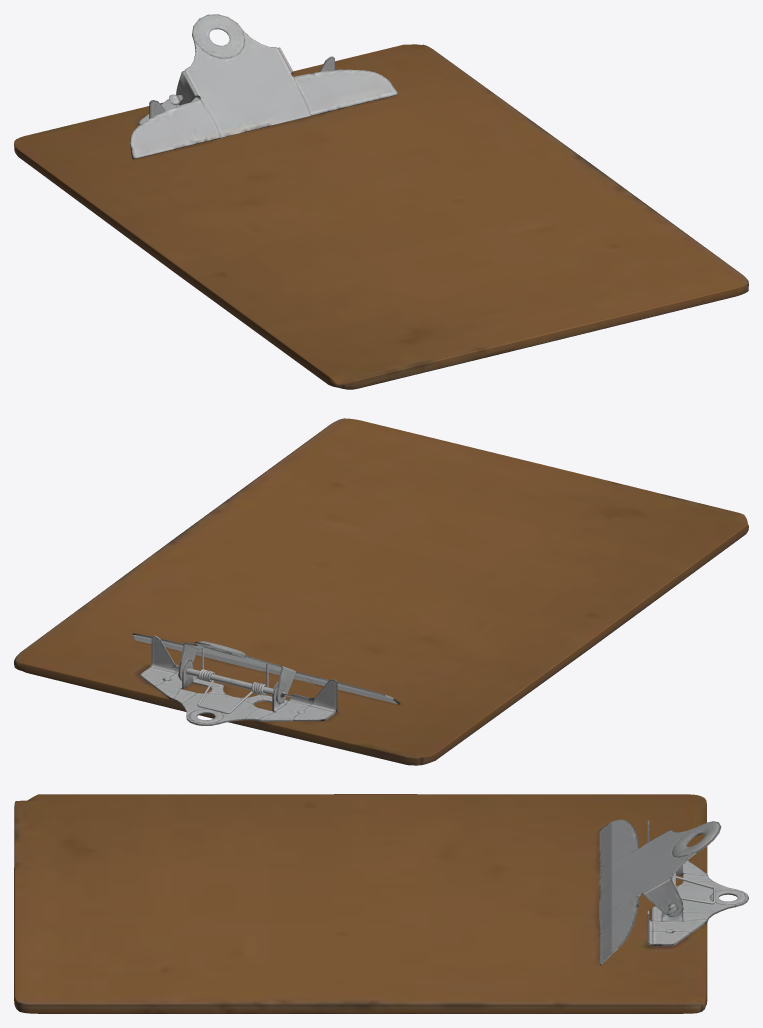
Rendered from clipboard.glb.
The picture shows the model from 3 angles, top to bottom: view 1: azimuth 30°, elevation 25°; view 2: azimuth 150°, elevation 25°; view 3: azimuth 270°, elevation 25°; orthographic projection. The views are drawn at different scales.
Parts seen in each view (by area): view 1: clipboard; view 2: clipboard; view 3: clipboard.
Part boxes in pixels (x1,y1,x2,y2): clipboard: [14, 14, 748, 389]; clipboard: [14, 418, 748, 765]; clipboard: [14, 794, 748, 1013].
Size of the model in its own units: 0.2286 by 0.042 by 0.3366.
Materials: 1 (1 with a texture image).
